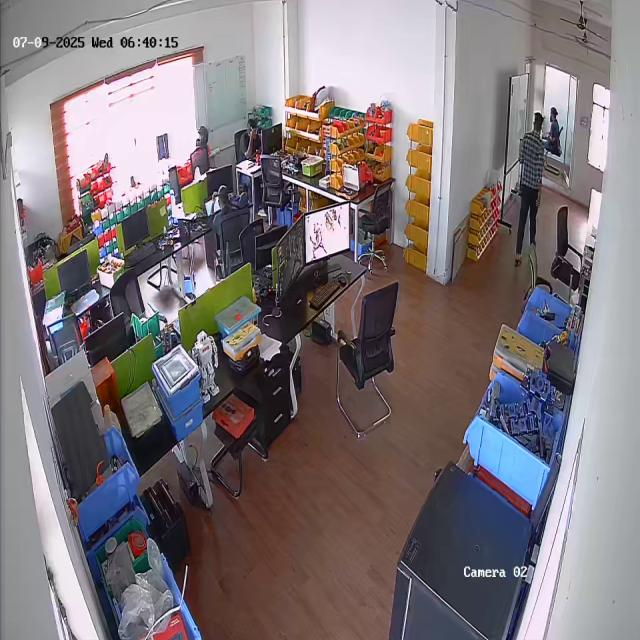person: (514, 110, 540, 267), (205, 184, 249, 252), (238, 118, 264, 170), (544, 105, 565, 163)
